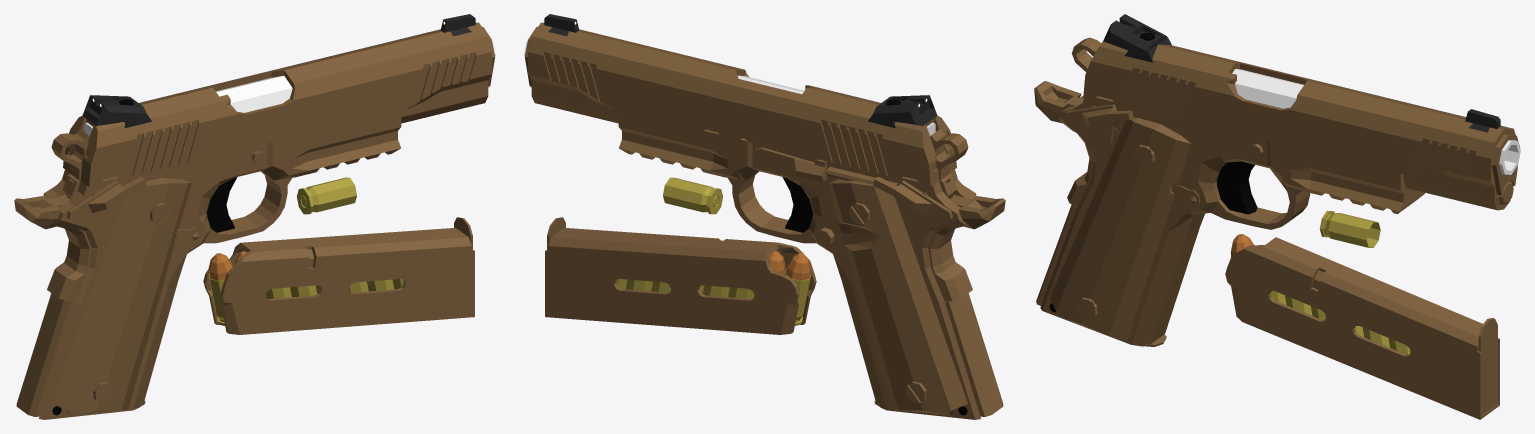
The model's file is low-poly_colt_m45a1.glb.
3 views of the same model, side by side, from view 1: azimuth 30°, elevation 25°; view 2: azimuth 150°, elevation 25°; view 3: azimuth 330°, elevation 25° (orthographic).
Visible parts, largest first — view 1: colt m45a1 (frame)_7, m45 slide & bolt_2, 45acp m45 mag 8rnd (colt)_1, m45 safety_3, m45 safety#2_8, 45acp_0, m45 hammer_4, m45 trigga_6; view 2: colt m45a1 (frame)_7, m45 slide & bolt_2, 45acp m45 mag 8rnd (colt)_1, m45 safety_3, m45 safety#2_8, 45acp_0, m45 bolt release_5, m45 hammer_4, m45 trigga_6; view 3: colt m45a1 (frame)_7, m45 slide & bolt_2, 45acp m45 mag 8rnd (colt)_1, m45 safety#2_8, m45 safety_3, m45 trigga_6, 45acp_0, m45 hammer_4.
Boxes of the visible parts, <box> form: colt m45a1 (frame)_7: <box>16,31,495,419</box>; m45 slide & bolt_2: <box>63,14,494,186</box>; 45acp m45 mag 8rnd (colt)_1: <box>203,217,474,334</box>; m45 safety_3: <box>14,195,91,301</box>; m45 safety#2_8: <box>43,176,146,235</box>; 45acp_0: <box>296,177,356,214</box>; m45 hammer_4: <box>51,129,97,198</box>; m45 trigga_6: <box>207,177,237,232</box>; colt m45a1 (frame)_7: <box>524,31,1003,419</box>; m45 slide & bolt_2: <box>525,14,956,186</box>; 45acp m45 mag 8rnd (colt)_1: <box>545,217,816,334</box>; m45 safety_3: <box>928,195,1005,301</box>; m45 safety#2_8: <box>873,176,976,235</box>; 45acp_0: <box>663,177,723,214</box>; m45 bolt release_5: <box>752,147,826,181</box>; m45 hammer_4: <box>922,129,968,198</box>; m45 trigga_6: <box>782,177,812,232</box>; colt m45a1 (frame)_7: <box>1036,69,1520,346</box>; m45 slide & bolt_2: <box>1083,14,1520,210</box>; 45acp m45 mag 8rnd (colt)_1: <box>1225,234,1499,419</box>; m45 safety#2_8: <box>1063,104,1133,150</box>; m45 safety_3: <box>1034,81,1093,207</box>; m45 trigga_6: <box>1216,161,1257,214</box>; 45acp_0: <box>1319,210,1380,247</box>; m45 hammer_4: <box>1071,37,1101,108</box>.
Bounding box in the file's own units: 2.3 × 1.46 × 0.3367.
